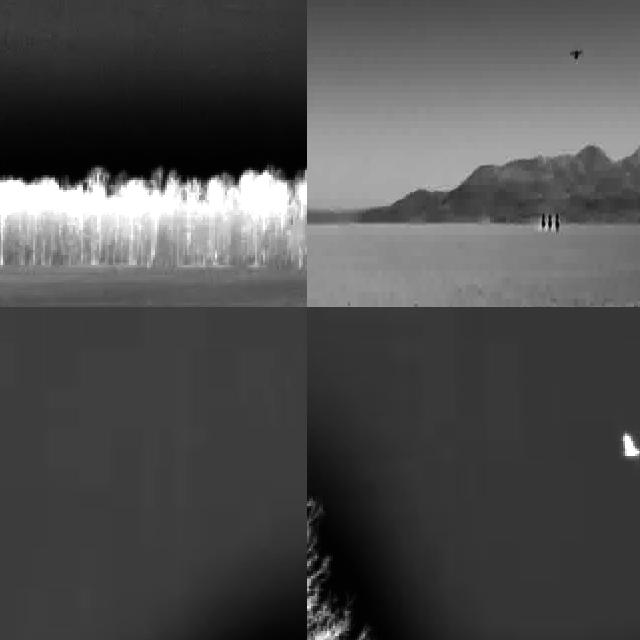0: (610, 416, 640, 466)
drone: (568, 42, 587, 71)
